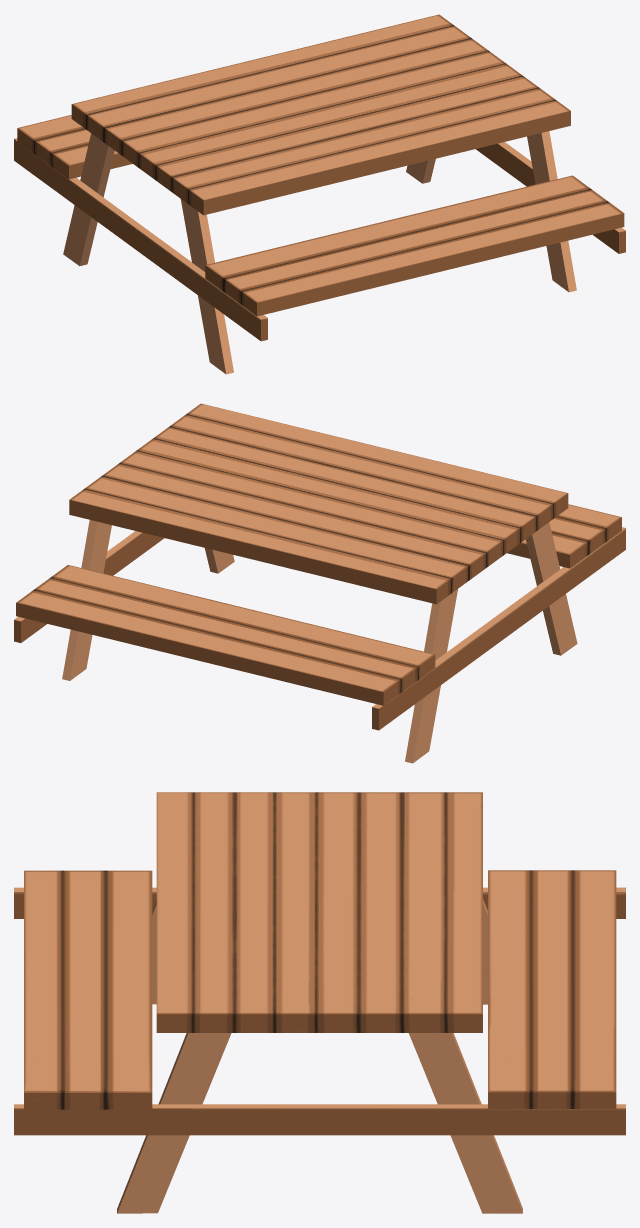
File: Bench.fbx
3 views of the same model, one above another, from view 1: azimuth 30°, elevation 25°; view 2: azimuth 150°, elevation 25°; view 3: azimuth 270°, elevation 25° (orthographic). The views are drawn at different scales.
Parts seen in each view (by area): view 1: polySurface1; view 2: polySurface1; view 3: polySurface1.
Boxes of the visible parts, x1,y1,x2,y2 form: polySurface1: (14, 14, 625, 374); polySurface1: (14, 403, 625, 763); polySurface1: (14, 792, 625, 1213).
Bounding box in the file's own units: 37.93 × 16.31 × 44.08.
